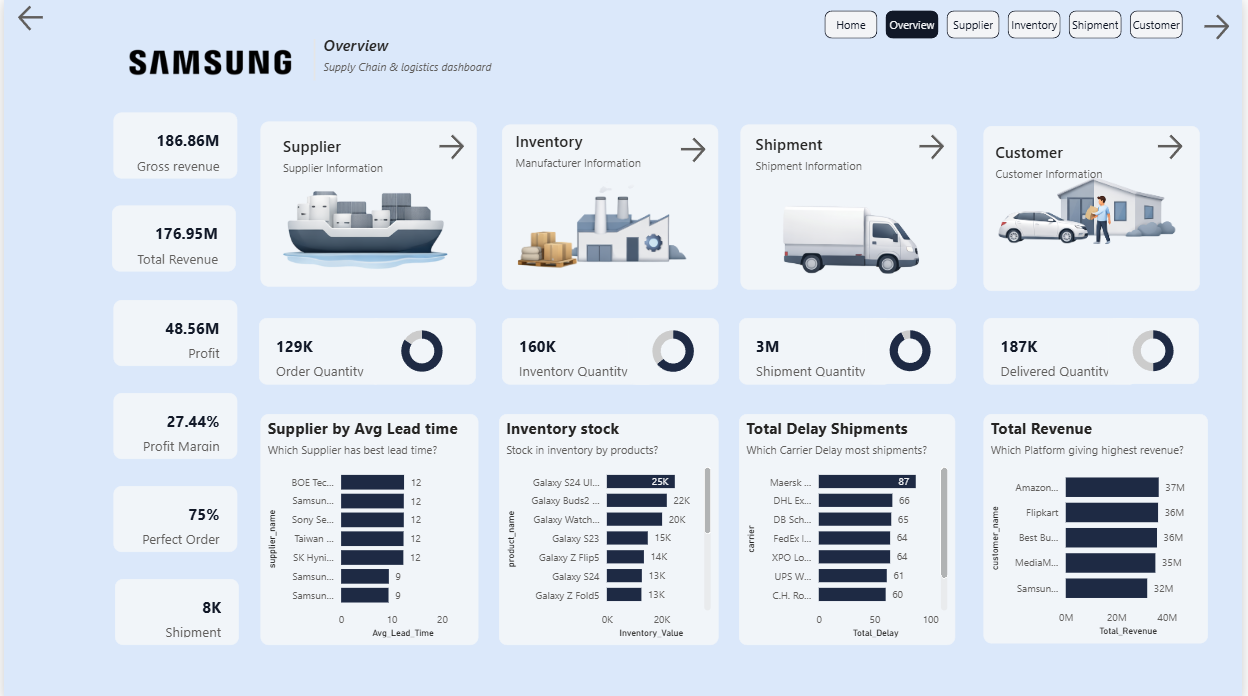

The page's visual inventory and layout, read from the dashboard file:
{"tool":"powerbi","page":{"name":"Overview","canvas":[1500,850],"ordinal":1},"visuals":[{"type":"shape","box":[310,148,262,200],"z":0},{"type":"shape","box":[603.1,150.3,262.1,199.8],"z":1000},{"type":"shape","box":[892,150,262,200],"z":2000},{"type":"shape","box":[1180,150,262,200],"z":3000},{"type":"image","box":[1186.8,152.5,262,200],"z":4000},{"type":"image","box":[924,186,200,196],"z":5000},{"type":"image","box":[593.9,143,245.6,251.1],"z":6000},{"type":"image","box":[311.6,170.5,243.8,192.5],"z":7000},{"type":"actionButton","box":[522,158,98,40],"z":8000},{"type":"actionButton","box":[814,162,100,40],"z":9000},{"type":"actionButton","box":[1104,158,100,40],"z":10000},{"type":"actionButton","box":[1392,158,100,40],"z":11000},{"type":"shape","title":"Supplier","box":[338,164,166,54],"z":12000},{"type":"shape","title":"Inventory","box":[620,158,166,58],"z":13000},{"type":"shape","title":"Shipment","box":[910,162,166,54],"z":14000},{"type":"shape","title":"Customer","box":[1202,170,166,54],"z":15000},{"type":"shape","title":"Overview","box":[387.1,41.4,275.7,135.7],"z":16000},{"type":"shape","box":[315.7,47.1,120,50],"z":17000},{"type":"image","box":[131.4,12.9,228.6,124.3],"z":18000},{"type":"cardVisual","fields":{"Data":["MeasuresTable.Total_Revenue"]},"box":[131.3,249.7,150,80],"z":19000},{"type":"cardVisual","fields":{"Data":["MeasuresTable.Profit Margin %"]},"box":[133.3,475.9,150,80],"z":20000},{"type":"cardVisual","fields":{"Data":["MeasuresTable.Profit"]},"box":[133.3,362.8,150,80],"z":21000},{"type":"cardVisual","fields":{"Data":["MeasuresTable.Total_Shipment"]},"box":[134,702,150,80],"z":22000},{"type":"cardVisual","fields":{"Data":["MeasuresTable.Perfect_Order %"]},"box":[133.3,588.9,150,80],"z":23000},{"type":"cardVisual","fields":{"Data":["Sum(fact_sales.gross_revenue)"]},"box":[133.3,136.7,150,80],"z":24000},{"type":"shape","box":[312,368,260,96],"z":25000},{"type":"shape","box":[602,366,262,98],"z":26000},{"type":"shape","box":[890,365,262.5,99.2],"z":27000},{"type":"shape","box":[1180,366,262,100],"z":28000},{"type":"cardVisual","fields":{"Data":["MeasuresTable.Order_QTY"]},"box":[309.8,384.9,150.3,80.7],"z":29000,"group":"g4"},{"type":"clusteredBarChart","title":"Supplier by Avg Lead time","fields":{"Y":["MeasuresTable.Avg_Lead_Time"],"Category":["dim_supplier.supplier_name"]},"box":[310,502,264,280],"z":29000},{"type":"cardVisual","fields":{"Data":["MeasuresTable.Inventory_Value"]},"box":[603.1,384.9,187,80.7],"z":30000,"group":"g1"},{"type":"clusteredBarChart","title":"Inventory stock","fields":{"Y":["MeasuresTable.Inventory_Value"],"Category":["dim_product.product_name"]},"box":[600,502,266,280],"z":30000},{"type":"cardVisual","fields":{"Data":["MeasuresTable.Total_Shipment_Quantity"]},"box":[890.8,385.8,185,80.8],"z":31000,"group":"g2"},{"type":"clusteredBarChart","title":"Total Delay Shipments","fields":{"Y":["MeasuresTable.Total_Delay"],"Category":["fact_shipment.carrier"]},"box":[890,502,262,280],"z":31000},{"type":"cardVisual","fields":{"Data":["MeasuresTable.Total_Delivered_Quantity"]},"box":[1186.7,385.8,186.7,80.8],"z":32000,"group":"g3"},{"type":"clusteredBarChart","title":"Total Revenue ","fields":{"Y":["MeasuresTable.Total_Revenue"],"Category":["dim_customer.customer_name"]},"box":[1186,502,272,278],"z":32000},{"type":"group","id":"g1","title":"Group 1","box":[603.1,384.9,261.9,80.9],"z":33000},{"type":"group","id":"g2","title":"Group 2","box":[890.8,385.8,263.3,80.8],"z":34000},{"type":"group","id":"g3","title":"Group 3","box":[1186.7,385.8,261.7,80.8],"z":35000},{"type":"group","id":"g4","title":"Group 4","box":[309.8,384.9,262.1,80.7],"z":36000},{"type":"pageNavigator","box":[993.5,12.8,438.1,34.8],"z":37000},{"type":"donutChart","fields":{"Y":["MeasuresTable.Inventory_Value","MeasuresTable.Safety_Stock"]},"box":[755,385,110,80.8],"z":37000,"group":"g1"},{"type":"actionButton","box":[1448.1,12.8,49.5,40.3],"z":38000},{"type":"donutChart","fields":{"Y":["MeasuresTable.Total_Shipment","MeasuresTable.Total_Delay"]},"box":[1044.1,385.8,110,80],"z":38000,"group":"g2"},{"type":"actionButton","box":[12.8,1.8,55,40.3],"z":39000},{"type":"donutChart","fields":{"Y":["MeasuresTable.Total_Delivered_Quantity","MeasuresTable.Total_QTY_Delay"]},"box":[1338.4,385.8,110,80],"z":39000,"group":"g3"},{"type":"donutChart","fields":{"Y":["MeasuresTable.Order_QTY","MeasuresTable.Defect_Rate"]},"box":[441.8,384.9,130.1,80.7],"z":40000,"group":"g4"}]}

Visuals, with their boxes in screenshot pixels (x1, y1, x2, y2), scaled from the page's 1500x850 canvas onto the 1248x696 screenshot:
shape: rect(258, 121, 476, 285)
shape: rect(502, 123, 720, 287)
shape: rect(742, 123, 960, 287)
shape: rect(982, 123, 1200, 287)
image: rect(987, 125, 1205, 289)
image: rect(769, 152, 935, 313)
image: rect(494, 117, 698, 323)
image: rect(259, 140, 462, 297)
actionButton: rect(434, 129, 516, 162)
actionButton: rect(677, 133, 760, 165)
actionButton: rect(919, 129, 1002, 162)
actionButton: rect(1158, 129, 1241, 162)
"Supplier" shape: rect(281, 134, 419, 179)
"Inventory" shape: rect(516, 129, 654, 177)
"Shipment" shape: rect(757, 133, 895, 177)
"Customer" shape: rect(1000, 139, 1138, 183)
"Overview" shape: rect(322, 34, 551, 145)
shape: rect(263, 39, 363, 80)
image: rect(109, 11, 300, 112)
cardVisual - MeasuresTable.Total_Revenue: rect(109, 204, 234, 270)
cardVisual - MeasuresTable.Profit Margin %: rect(111, 390, 236, 455)
cardVisual - MeasuresTable.Profit: rect(111, 297, 236, 363)
cardVisual - MeasuresTable.Total_Shipment: rect(111, 575, 236, 640)
cardVisual - MeasuresTable.Perfect_Order %: rect(111, 482, 236, 548)
cardVisual - Sum(fact_sales.gross_revenue): rect(111, 112, 236, 177)
shape: rect(260, 301, 476, 380)
shape: rect(501, 300, 719, 380)
shape: rect(740, 299, 959, 380)
shape: rect(982, 300, 1200, 382)
cardVisual - MeasuresTable.Order_QTY: rect(258, 315, 383, 381)
"Supplier by Avg Lead time" clusteredBarChart: rect(258, 411, 478, 640)
cardVisual - MeasuresTable.Inventory_Value: rect(502, 315, 657, 381)
"Inventory stock" clusteredBarChart: rect(499, 411, 721, 640)
cardVisual - MeasuresTable.Total_Shipment_Quantity: rect(741, 316, 895, 382)
"Total Delay Shipments" clusteredBarChart: rect(740, 411, 958, 640)
cardVisual - MeasuresTable.Total_Delivered_Quantity: rect(987, 316, 1143, 382)
"Total Revenue " clusteredBarChart: rect(987, 411, 1213, 639)
"Group 1" group: rect(502, 315, 720, 381)
"Group 2" group: rect(741, 316, 960, 382)
"Group 3" group: rect(987, 316, 1205, 382)
"Group 4" group: rect(258, 315, 476, 381)
pageNavigator: rect(827, 10, 1191, 39)
donutChart - MeasuresTable.Inventory_Value x MeasuresTable.Safety_Stock: rect(628, 315, 720, 381)
actionButton: rect(1205, 10, 1246, 43)
donutChart - MeasuresTable.Total_Shipment x MeasuresTable.Total_Delay: rect(869, 316, 960, 381)
actionButton: rect(11, 1, 56, 34)
donutChart - MeasuresTable.Total_Delivered_Quantity x MeasuresTable.Total_QTY_Delay: rect(1114, 316, 1205, 381)
donutChart - MeasuresTable.Order_QTY x MeasuresTable.Defect_Rate: rect(368, 315, 476, 381)
